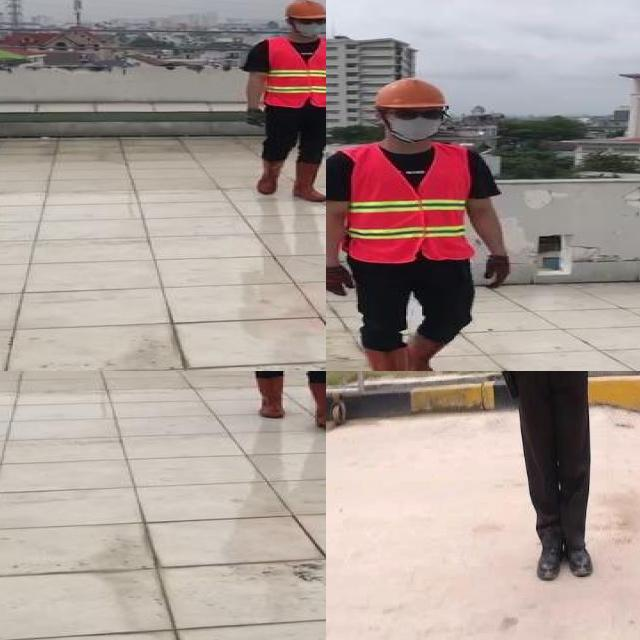boots: (256, 373, 290, 419), (565, 533, 597, 581), (536, 534, 565, 584), (294, 159, 324, 201), (359, 347, 411, 371), (404, 335, 438, 371), (258, 156, 284, 194), (308, 379, 326, 428)
face_mask: (386, 106, 447, 142), (290, 12, 326, 37)
glasses: (384, 105, 449, 123), (293, 16, 326, 27)
hand_glove: (326, 267, 357, 296), (486, 256, 509, 291), (244, 106, 273, 131)
head_helmet: (373, 75, 451, 111), (280, 0, 326, 21)
person: (362, 371, 640, 596), (326, 69, 524, 371), (232, 0, 326, 209)
vest: (346, 145, 474, 261), (265, 37, 326, 107)
